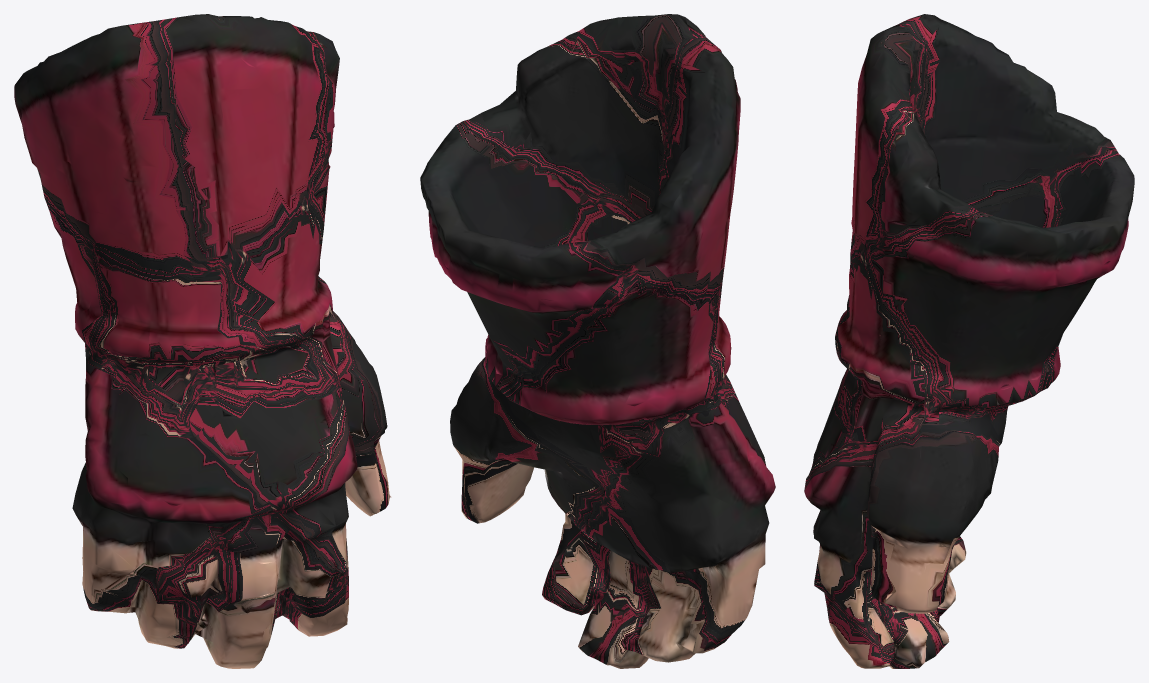
Rendered from samurai_glove_A.glb.
3 renders of one model, left to right at view 1: azimuth 30°, elevation 25°; view 2: azimuth 150°, elevation 25°; view 3: azimuth 270°, elevation 25°, orthographic. The views are drawn at different scales.
Bounding box in the file's own units: 0.1752 × 0.3684 × 0.1799.
Materials: 1 (1 with a texture image).
